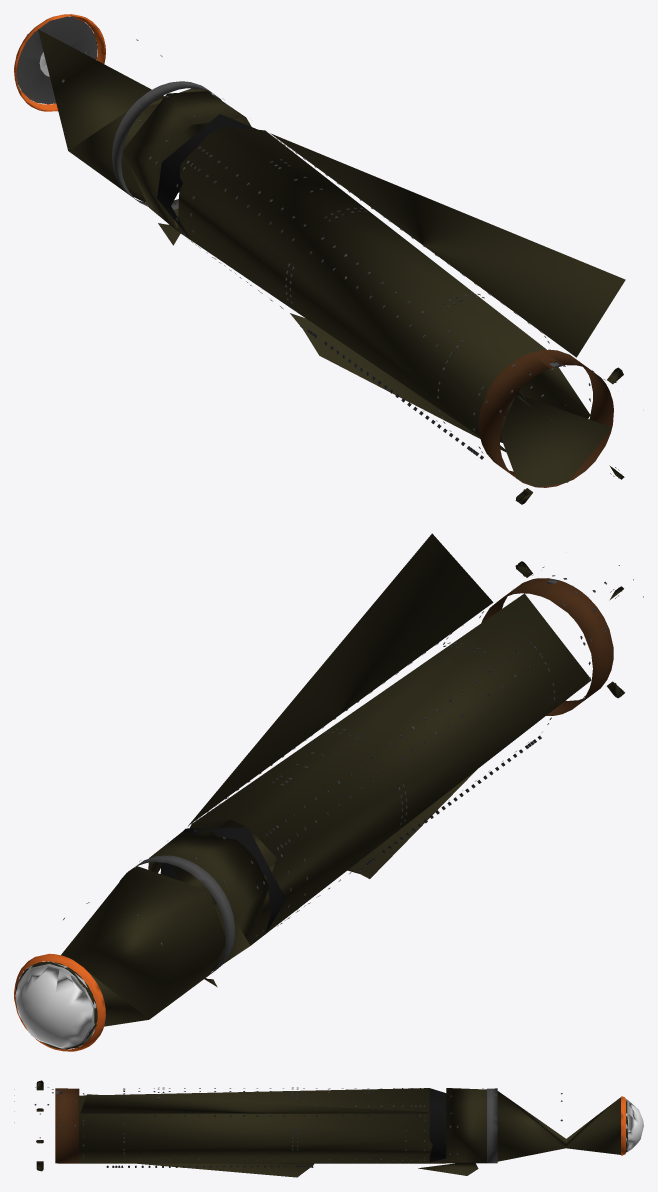
Rendered from w_agm65b.glb.
3 renders of one model, top to bottom at view 1: azimuth 30°, elevation 25°; view 2: azimuth 150°, elevation 25°; view 3: azimuth 270°, elevation 25°, orthographic. The views are drawn at different scales.
Visible parts, largest first — view 1: body|GREEN, body|SILVER, body|BROWN, body|BLACK, body|FRONT_ORANGE; view 2: body|GREEN, body|GLASS, body|BROWN, body|SILVER, body|BLACK, body|FRONT_ORANGE; view 3: body|GREEN, body|BROWN, body|SILVER, body|BLACK, body|GLASS, body|FRONT_ORANGE.
Boxes of the visible parts, <box> form: body|GREEN: <box>20,16,625,504</box>; body|SILVER: <box>16,16,605,459</box>; body|BROWN: <box>478,349,613,487</box>; body|BLACK: <box>157,114,257,239</box>; body|FRONT_ORANGE: <box>14,14,105,111</box>; body|GREEN: <box>15,533,624,1048</box>; body|GLASS: <box>15,963,96,1049</box>; body|BROWN: <box>481,578,613,715</box>; body|SILVER: <box>17,565,643,1049</box>; body|BLACK: <box>160,827,285,934</box>; body|FRONT_ORANGE: <box>14,953,105,1051</box>; body|GREEN: <box>36,1080,627,1177</box>; body|BROWN: <box>55,1088,79,1163</box>; body|SILVER: <box>14,1087,562,1167</box>; body|BLACK: <box>429,1088,446,1162</box>; body|GLASS: <box>626,1099,643,1152</box>; body|FRONT_ORANGE: <box>621,1096,625,1155</box>.
Size of the model in its own units: 0.3991 by 0.4451 by 2.46.
